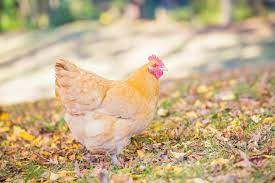buff: (93, 54, 171, 132)
